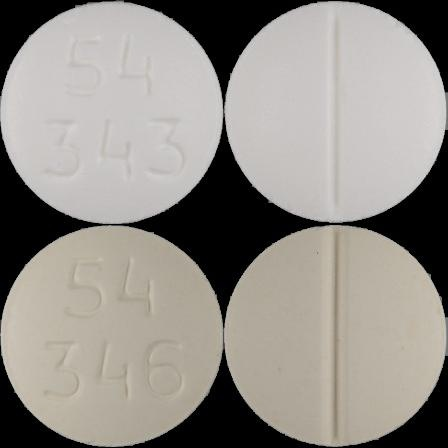0054-0019: (0, 0, 224, 224)
